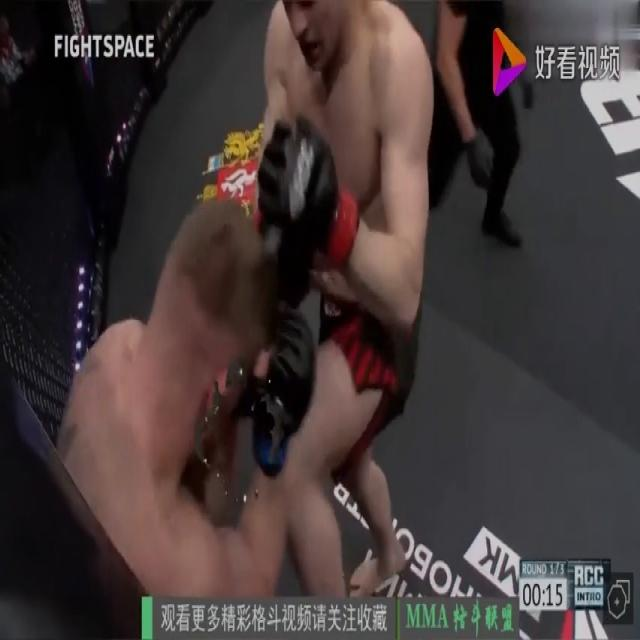fight: (56, 0, 434, 615)
non-fight: (426, 0, 526, 248)
